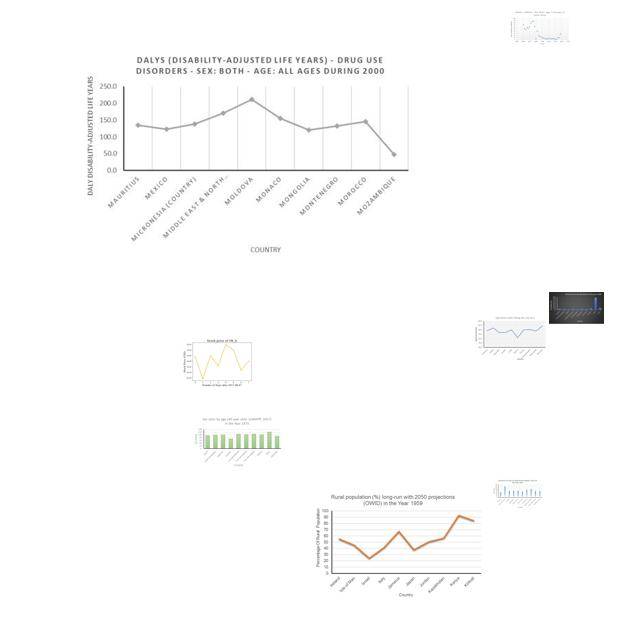Graph: (81, 50, 415, 263), (311, 492, 485, 599), (192, 416, 282, 467), (183, 333, 259, 390), (473, 316, 547, 360), (509, 10, 571, 46), (549, 292, 604, 324), (492, 479, 543, 509)
